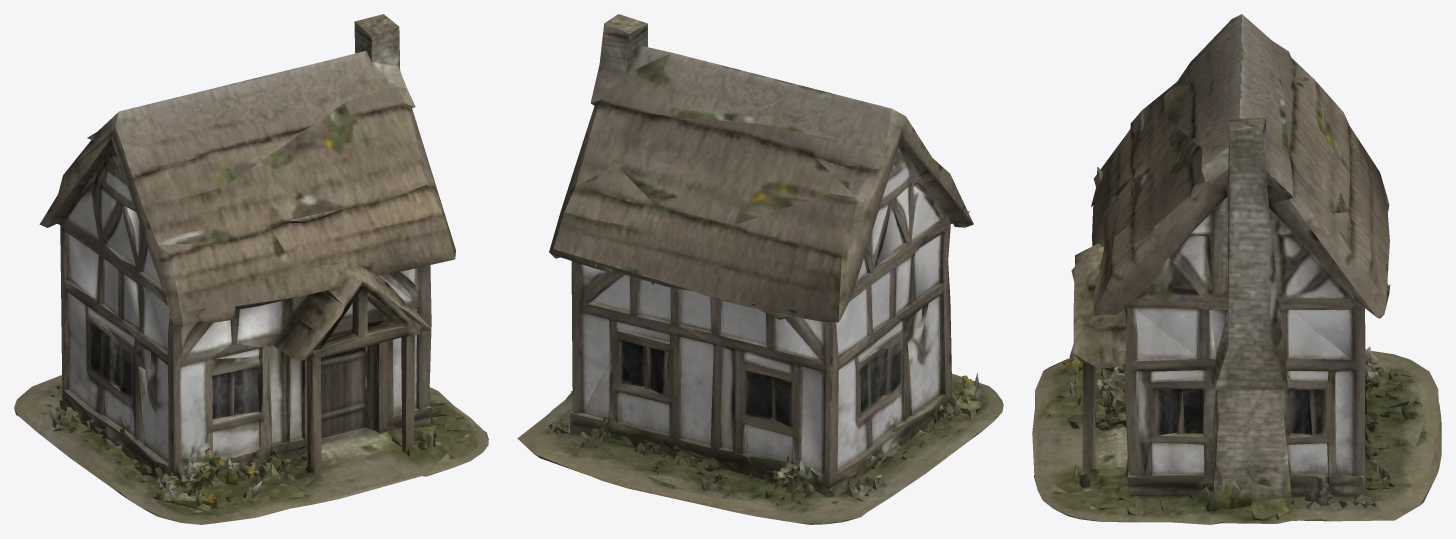
The model's file is cottage.glb.
3 views of the same model, side by side, from view 1: azimuth 30°, elevation 25°; view 2: azimuth 150°, elevation 25°; view 3: azimuth 270°, elevation 25° (orthographic). The views are drawn at different scales.
Parts seen in each view (by area): view 1: geometry_0; view 2: geometry_0; view 3: geometry_0.
Part boxes in pixels (x1,y1,x2,y2): geometry_0: [14, 14, 488, 524]; geometry_0: [517, 14, 1003, 524]; geometry_0: [1032, 14, 1441, 524].
Bounding box in the file's own units: 1.77 × 1.8 × 1.74.
1 material, 1 textured.
